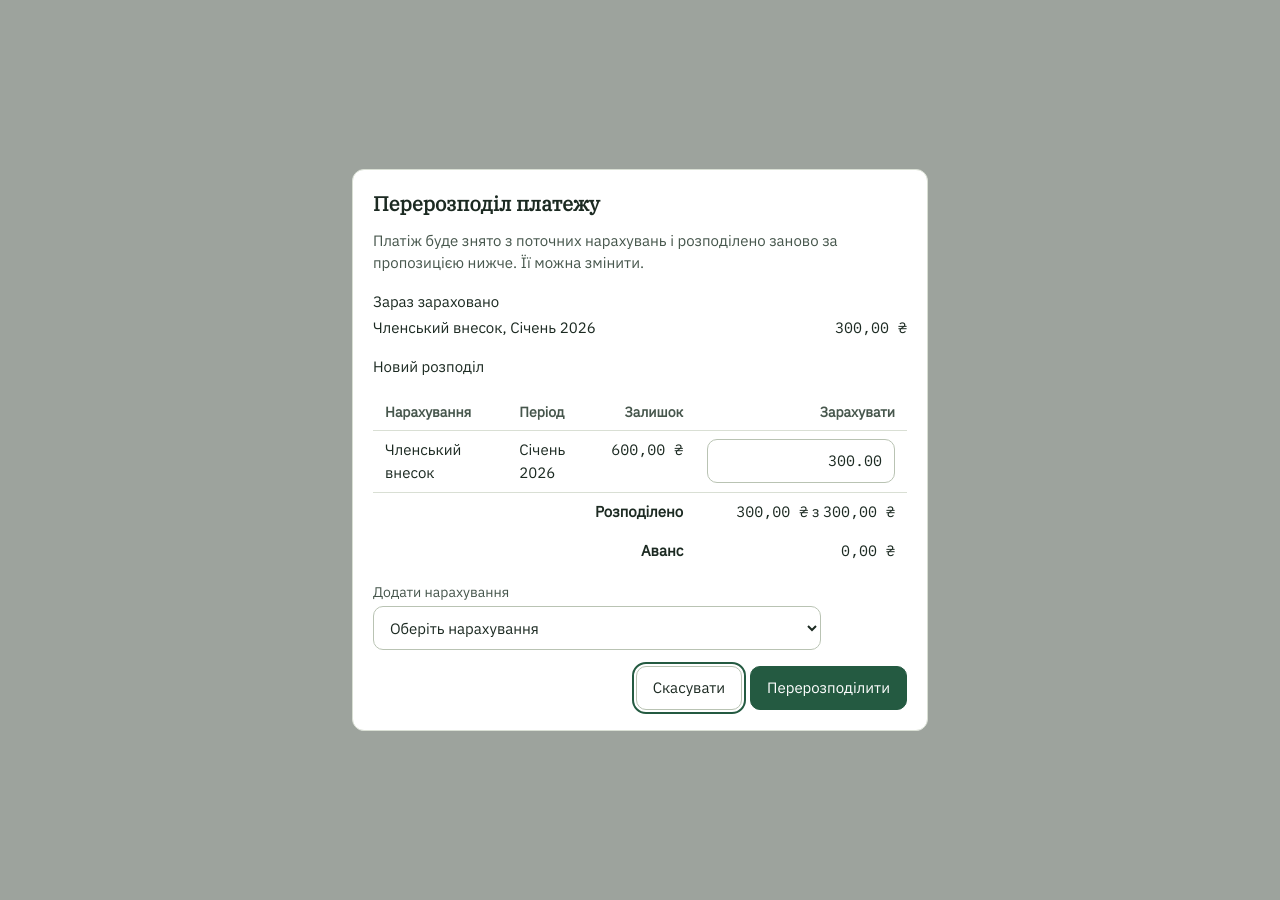
ReallocateDialog › previews again at once when the digest is stale
Expected: the field named "Сума до зарахування: Членський внесок" is shown, [707,439,895,483]
Click the button "Перерозподілити" at (828, 688), box [750,666,907,710]
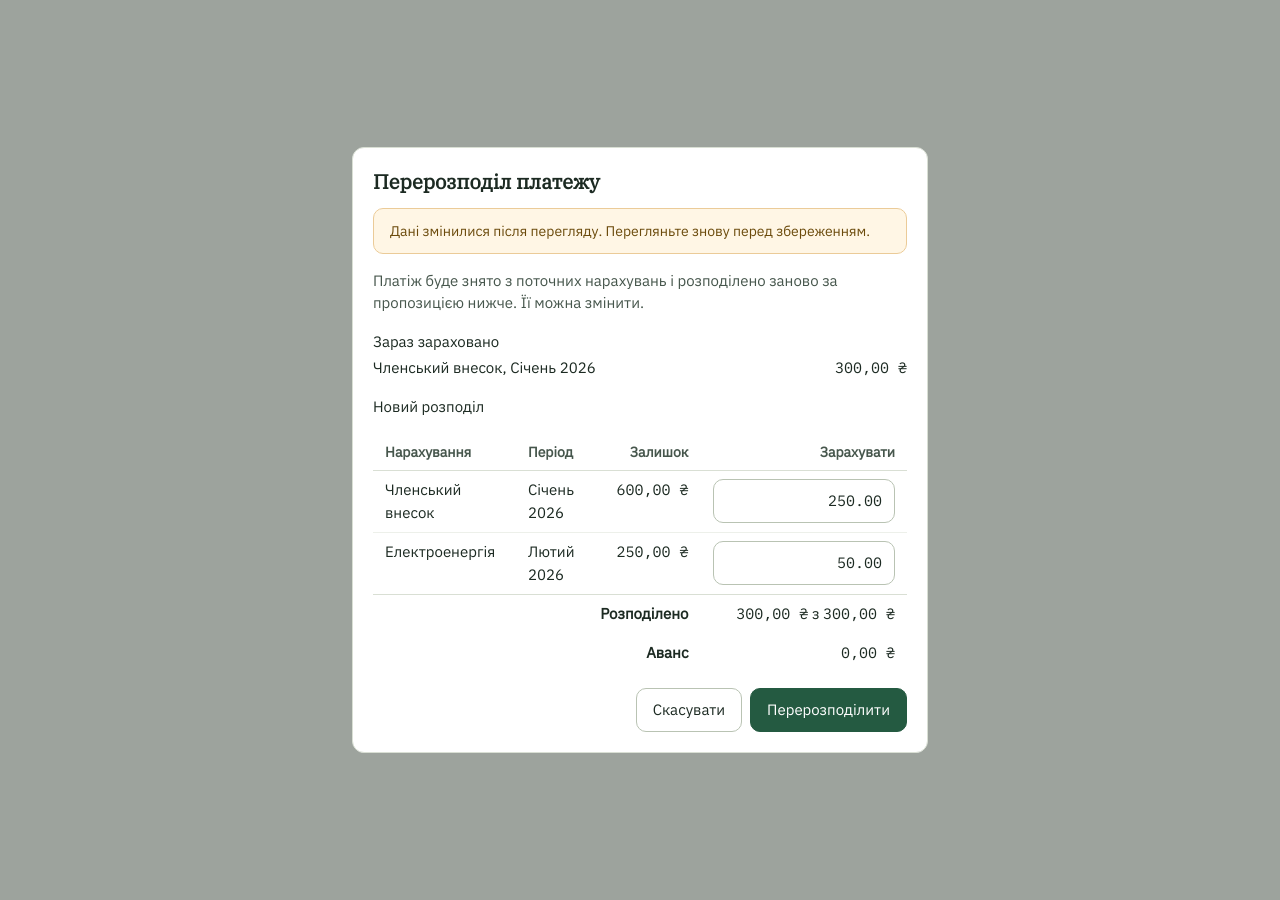
Result: the text "Дані змінилися після перегляду. Перегляньте знову перед збереженням." is shown at [373,208,907,254]
Result: the field named "Сума до зарахування: Членський внесок" holds "250.00" at [712,479,895,523]
